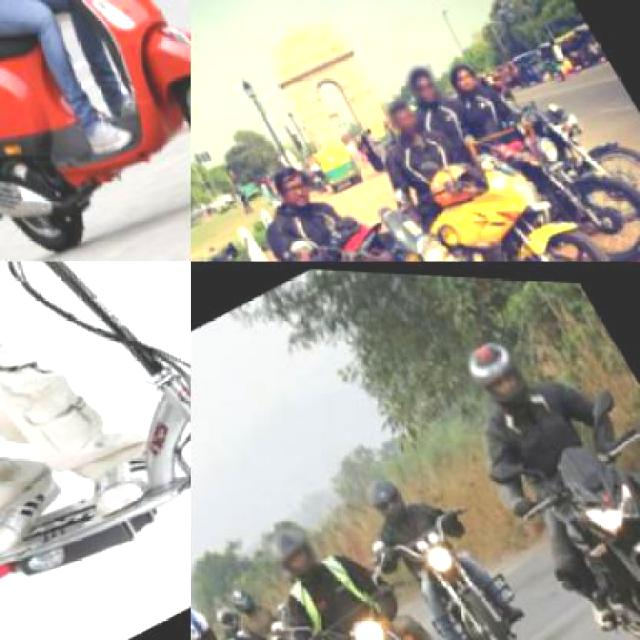With Helmet: (453, 326, 542, 417), (255, 514, 322, 584), (355, 468, 414, 530), (191, 590, 243, 638), (218, 576, 256, 618)
Without Helmet: (254, 149, 320, 216), (396, 51, 449, 107), (378, 89, 424, 140), (441, 49, 485, 96)
